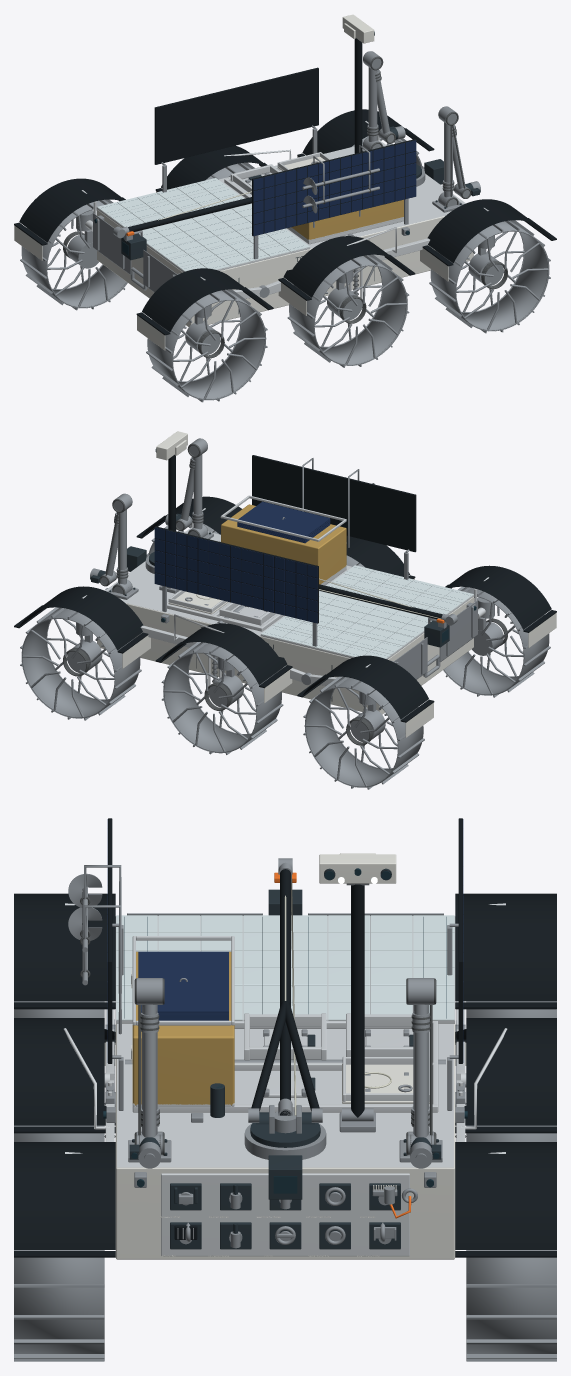
File: TSR1_engineering.glb
The picture shows the model from 3 angles, top to bottom: view 1: azimuth 30°, elevation 25°; view 2: azimuth 150°, elevation 25°; view 3: azimuth 270°, elevation 25°; orthographic projection. The views are drawn at different scales.
Visible parts, largest first — view 1: TRAVERSE_solar_array_L, TRAVERSE_chassis_torque_box, TRAVERSE_wheel_rim_FR, TRAVERSE_wheel_rim_MR, TRAVERSE_wheel_rim_RR, TRAVERSE_fender_RR, TRAVERSE_fender_FR, TRAVERSE_fender_RL, TRAVERSE_fender_MR, TRAVERSE_wheel_rim_RL, TRAVERSE_solar_array_R, TRAVERSE_deck_structural_face (+14 smaller); view 2: TRAVERSE_solar_array_R, TRAVERSE_chassis_torque_box, TRAVERSE_wheel_rim_ML, TRAVERSE_wheel_rim_FL, TRAVERSE_wheel_rim_RL, TRAVERSE_MOD_KA_stowed_envelope, TRAVERSE_fender_RL, TRAVERSE_fender_FL, TRAVERSE_fender_RR, TRAVERSE_fender_ML, TRAVERSE_wheel_rim_RR, TRAVERSE_solar_array_L (+24 smaller); view 3: TRAVERSE_deck_structural_face, TRAVERSE_front_face_open_holster_backplate, TRAVERSE_chassis_torque_box, TRAVERSE_fender_FL, TRAVERSE_fender_FR, TRAVERSE_fender_RL, TRAVERSE_fender_ML, TRAVERSE_fender_MR, TRAVERSE_fender_RR, TRAVERSE_wheel_rim_FL, TRAVERSE_wheel_rim_FR, TRAVERSE_MOD_KA_stowed_envelope (+52 smaller).
Boxes of the visible parts, x1,y1,x2,y2 form: TRAVERSE_solar_array_L: (154,67,318,164); TRAVERSE_chassis_torque_box: (97,209,473,326); TRAVERSE_wheel_rim_FR: (430,220,549,331); TRAVERSE_wheel_rim_MR: (289,255,407,365); TRAVERSE_wheel_rim_RR: (147,289,266,400); TRAVERSE_fender_RR: (142,268,267,331); TRAVERSE_fender_FR: (427,199,551,262); TRAVERSE_fender_RL: (19,178,124,242); TRAVERSE_fender_MR: (283,236,409,297); TRAVERSE_wheel_rim_RL: (21,199,127,308); TRAVERSE_solar_array_R: (252,139,416,235); TRAVERSE_deck_structural_face: (219,140,465,248); TRAVERSE_solar_array_R: (252,455,416,552); TRAVERSE_chassis_torque_box: (97,597,473,714); TRAVERSE_wheel_rim_ML: (163,642,281,753); TRAVERSE_wheel_rim_FL: (21,607,140,718); TRAVERSE_wheel_rim_RL: (304,676,423,787); TRAVERSE_MOD_KA_stowed_envelope: (221,504,346,584); TRAVERSE_fender_RL: (302,655,428,719); TRAVERSE_fender_FL: (19,586,143,650); TRAVERSE_fender_RR: (446,565,551,629); TRAVERSE_fender_ML: (161,623,287,684); TRAVERSE_wheel_rim_RR: (443,587,549,695); TRAVERSE_solar_array_L: (154,526,318,623); TRAVERSE_deck_structural_face: (117,1024,453,1167); TRAVERSE_front_face_open_holster_backplate: (161,1173,409,1256); TRAVERSE_chassis_torque_box: (115,1024,455,1259); TRAVERSE_fender_FL: (455,1142,556,1249); TRAVERSE_fender_FR: (14,1142,115,1249); TRAVERSE_fender_RL: (455,893,556,1001); TRAVERSE_fender_ML: (455,1018,556,1125); TRAVERSE_fender_MR: (14,1018,115,1125); TRAVERSE_fender_RR: (14,893,115,1001); TRAVERSE_wheel_rim_FL: (466,1257,556,1353); TRAVERSE_wheel_rim_FR: (14,1257,104,1353); TRAVERSE_MOD_KA_stowed_envelope: (132,951,234,1105).
Bounding box in the file's own units: 3.6 × 2.2 × 2.4.
